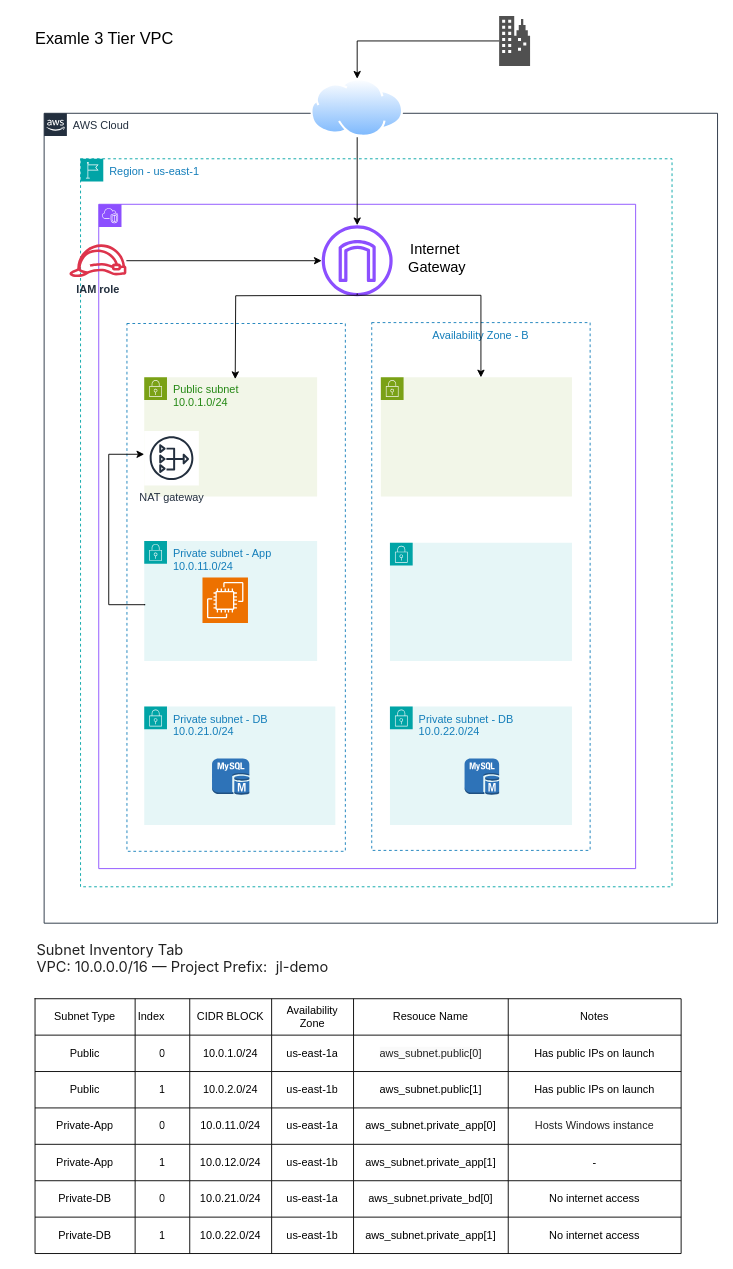
Image size: 733x1269. Some labels were removed from this diagram. The shapes that lost their labels are listed below. From the top down, each one's box as (x1, y1, x2, y2) in pixels, then its label:
(499, 15, 530, 66): Office on Prem
(380, 376, 572, 496): Public subnet 10.0.2.0/24
(98, 203, 636, 869): VPC 10.0.0.0/16
(126, 323, 345, 851): Availability Zone - A
(389, 542, 572, 661): Private subnet - App 10.0.12.0/24
